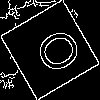O: (25, 24, 85, 82)
